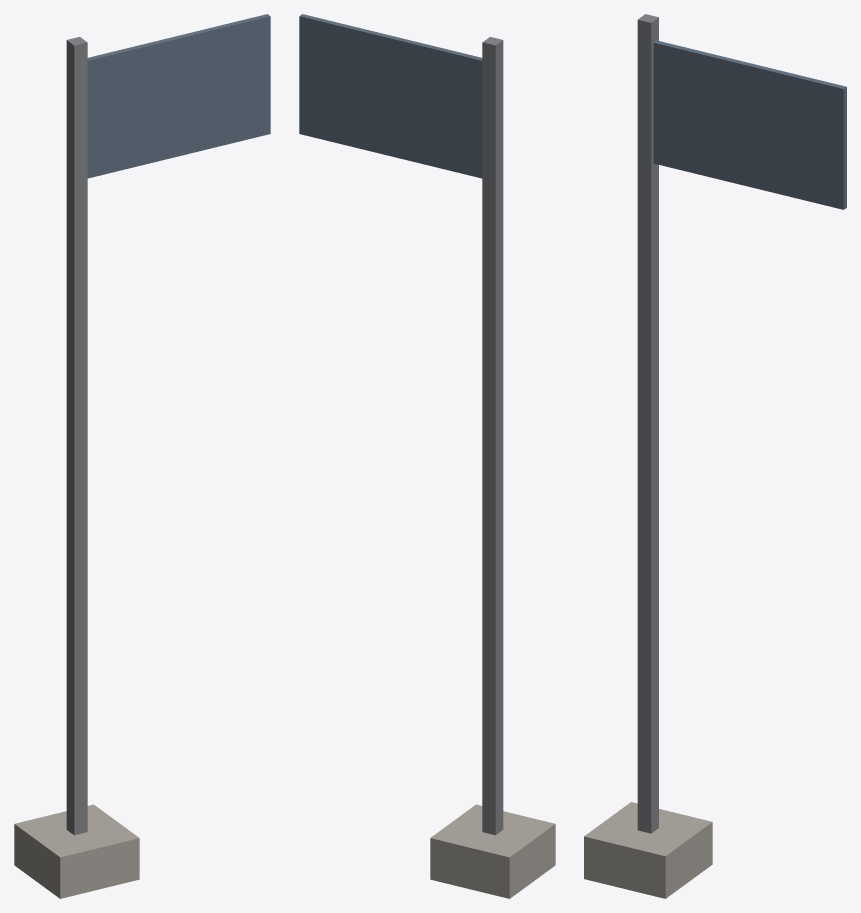
File: police_drapeau.glb
3 renders of one model, left to right at view 1: azimuth 30°, elevation 25°; view 2: azimuth 150°, elevation 25°; view 3: azimuth 330°, elevation 25°, orthographic. The views are drawn at different scales.
Parts seen in each view (by area): view 1: police_drapeau; view 2: police_drapeau; view 3: police_drapeau.
Boxes of the visible parts, x1,y1,x2,y2 form: police_drapeau: (14,14,270,898); police_drapeau: (299,14,555,898); police_drapeau: (584,14,846,898).
Size of the model in its own units: 1.75 by 6 by 0.6.
